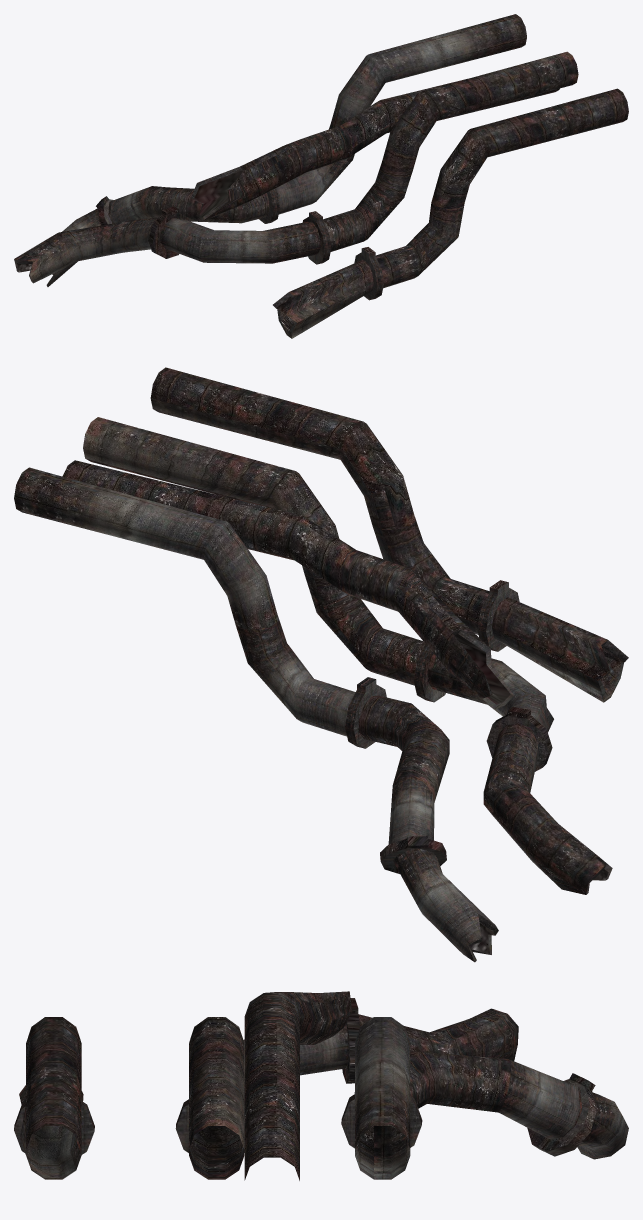
File: destroyedpipes01c.glb
3 views of the same model, one above another, from view 1: azimuth 30°, elevation 25°; view 2: azimuth 150°, elevation 25°; view 3: azimuth 270°, elevation 25° (orthographic). The views are drawn at different scales.
Visible parts, largest first — view 1: 0_destroyedpipes01a; view 2: 0_destroyedpipes01a; view 3: 0_destroyedpipes01a.
Boxes of the visible parts, x1,y1,x2,y2 form: 0_destroyedpipes01a: [14, 14, 628, 338]; 0_destroyedpipes01a: [14, 367, 628, 962]; 0_destroyedpipes01a: [14, 991, 628, 1180].
Size of the model in its own units: 3.25 by 1.44 by 2.29.
1 material, 1 textured.
